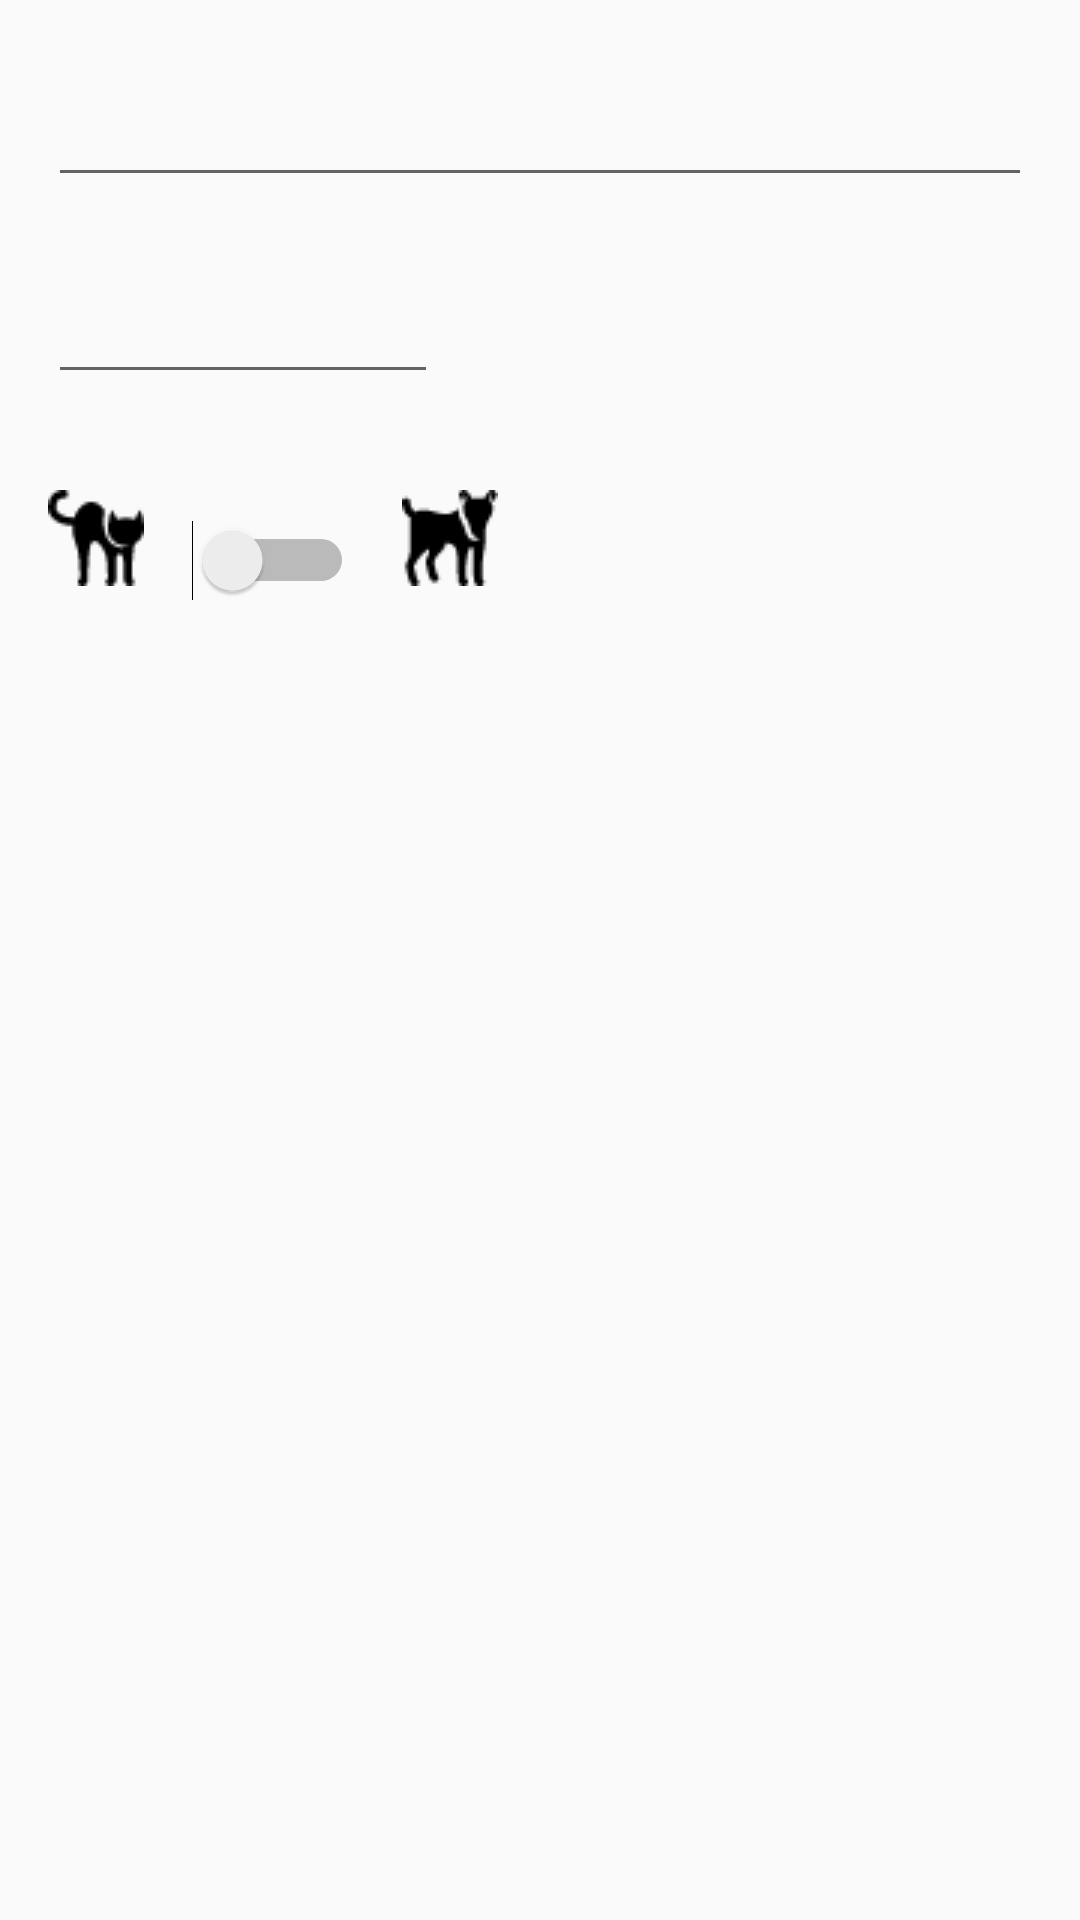

Where icons sit on this 1080w x 1920h app screen, as (x1, y1, x2, y2):
cat: (48, 490, 144, 586)
dog: (402, 490, 498, 586)
